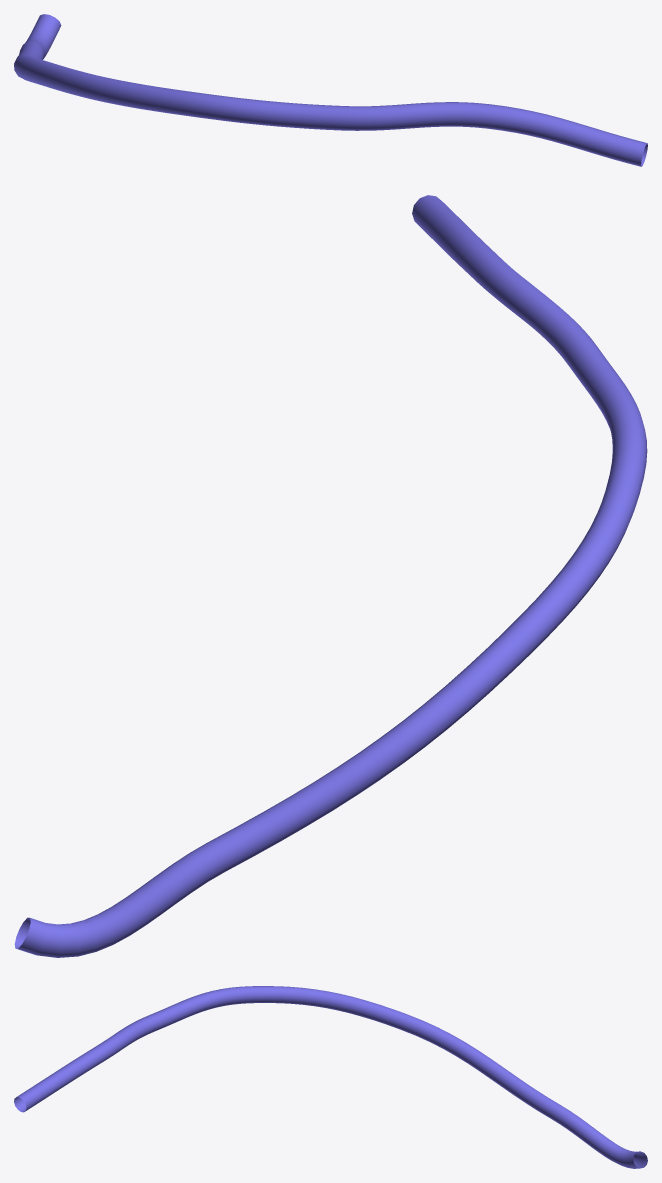
Rendered from Circumflex_scapular_vein.r_BezierCurve.313.glb.
3 renders of one model, top to bottom at view 1: azimuth 30°, elevation 25°; view 2: azimuth 150°, elevation 25°; view 3: azimuth 270°, elevation 25°, orthographic. The views are drawn at different scales.
Parts seen in each view (by area): view 1: Circumflex_scapular_vein.r_BezierCurve.313; view 2: Circumflex_scapular_vein.r_BezierCurve.313; view 3: Circumflex_scapular_vein.r_BezierCurve.313.
Boxes of the visible parts, bbox=[...] form: Circumflex_scapular_vein.r_BezierCurve.313: bbox=[14, 14, 647, 166]; Circumflex_scapular_vein.r_BezierCurve.313: bbox=[14, 195, 647, 957]; Circumflex_scapular_vein.r_BezierCurve.313: bbox=[14, 986, 647, 1168].
Bounding box in the file's own units: 0.023 × 0.013 × 0.0514.
